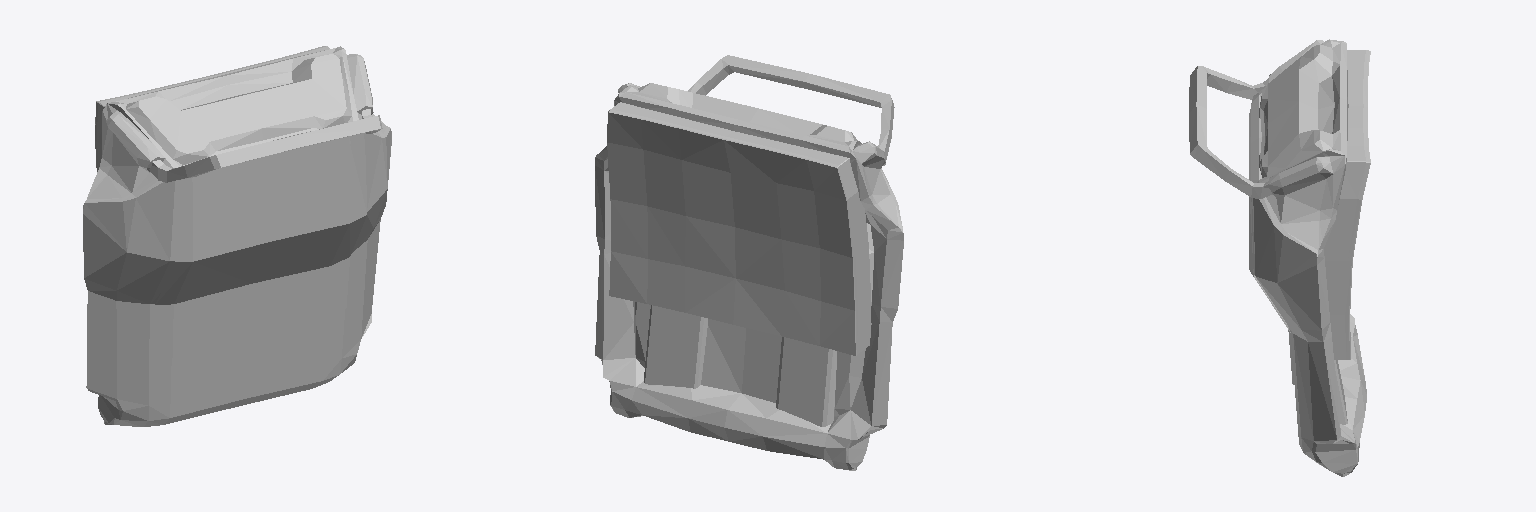
The model's file is Hatch_lower.obj.
3 renders of one model, left to right at view 1: azimuth 30°, elevation 25°; view 2: azimuth 150°, elevation 25°; view 3: azimuth 270°, elevation 25°, orthographic.
Parts seen in each view (by area): view 1: hatch.001; view 2: hatch.001; view 3: hatch.001.
Boxes of the visible parts, box(x1,y1,x2,y2) form: hatch.001: box(83, 46, 391, 426); hatch.001: box(595, 55, 903, 470); hatch.001: box(1189, 39, 1370, 476).
Bounding box in the file's own units: 10.08 × 10.23 × 5.13.